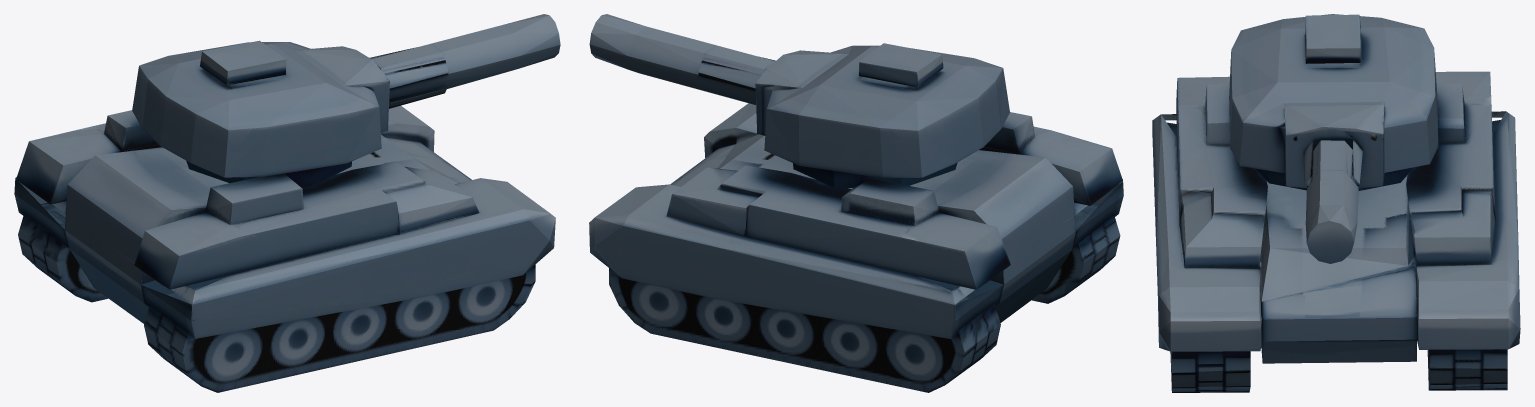
File: HeavyTank.glb
3 views of the same model, side by side, from view 1: azimuth 30°, elevation 25°; view 2: azimuth 150°, elevation 25°; view 3: azimuth 270°, elevation 25° (orthographic). The views are drawn at different scales.
Visible parts, largest first — view 1: tripo_node_9fc5da61-02b7-4b7a-bd3b-194c97bd7f1e; view 2: tripo_node_9fc5da61-02b7-4b7a-bd3b-194c97bd7f1e; view 3: tripo_node_9fc5da61-02b7-4b7a-bd3b-194c97bd7f1e.
Boxes of the visible parts, left/top/right/bottom form: tripo_node_9fc5da61-02b7-4b7a-bd3b-194c97bd7f1e: left=14, top=14, right=560, bottom=392; tripo_node_9fc5da61-02b7-4b7a-bd3b-194c97bd7f1e: left=589, top=14, right=1123, bottom=392; tripo_node_9fc5da61-02b7-4b7a-bd3b-194c97bd7f1e: left=1152, top=14, right=1520, bottom=392.
Size of the model in its own units: 0.998 by 0.5488 by 0.666.
Materials: 1 (1 with a texture image).
